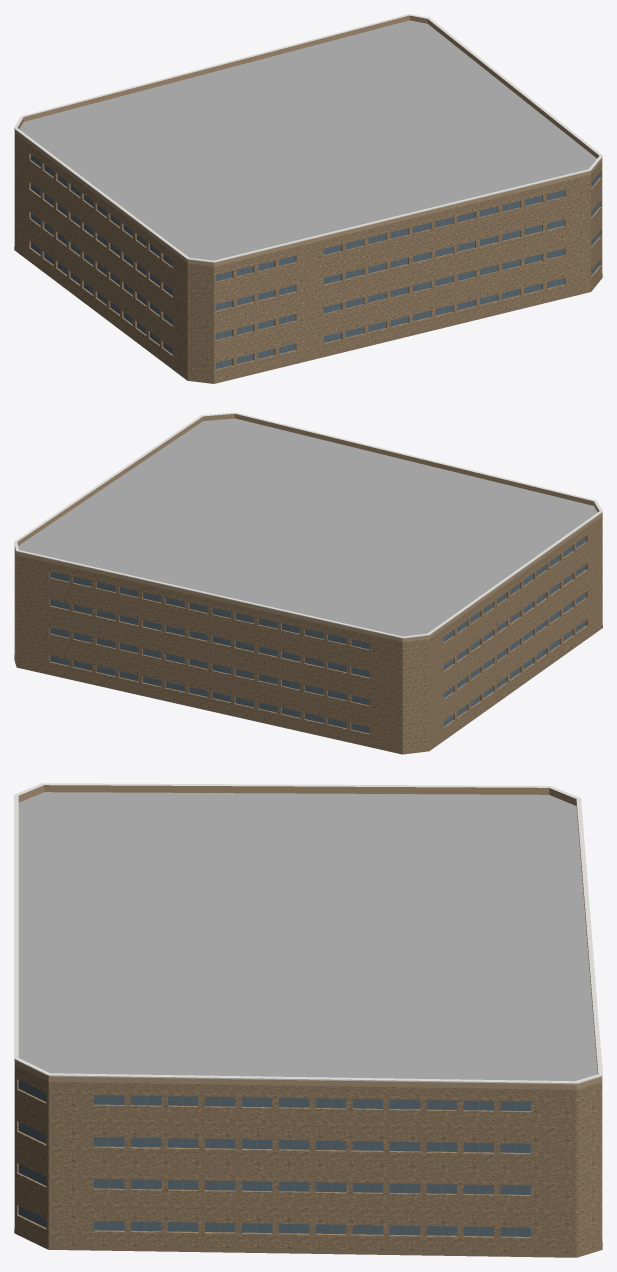
3 renders of one model, top to bottom at view 1: azimuth 30°, elevation 25°; view 2: azimuth 150°, elevation 25°; view 3: azimuth 270°, elevation 25°, orthographic. The views are drawn at different scales.
Visible parts, largest first — view 1: gym__roof, gym__wall, gym__glass, gym__parapet, gym__trim, gym__base, gym__frame; view 2: gym__roof, gym__wall, gym__glass, gym__parapet, gym__trim, gym__base, gym__frame; view 3: gym__roof, gym__wall, gym__glass, gym__parapet, gym__trim, gym__base, gym__frame.
Part boxes in pixels (x1,y1,x2,y2): gym__roof: [19, 20, 596, 260]; gym__wall: [14, 133, 602, 383]; gym__glass: [31, 154, 599, 369]; gym__parapet: [14, 15, 602, 266]; gym__trim: [14, 14, 602, 262]; gym__base: [14, 246, 602, 383]; gym__frame: [36, 158, 595, 367]; gym__roof: [18, 418, 597, 636]; gym__wall: [14, 516, 602, 753]; gym__glass: [50, 536, 585, 733]; gym__parapet: [14, 413, 602, 642]; gym__trim: [14, 412, 602, 638]; gym__base: [14, 625, 602, 754]; gym__frame: [59, 540, 580, 731]; gym__roof: [18, 792, 597, 1081]; gym__wall: [14, 1065, 602, 1257]; gym__glass: [18, 1080, 530, 1236]; gym__parapet: [14, 785, 602, 1089]; gym__trim: [14, 783, 602, 1084]; gym__base: [14, 1229, 602, 1257]; gym__frame: [33, 1087, 516, 1236].
Size of the model in its own units: 55.23 by 15 by 45.82.
Materials: 7 (1 with a texture image).
